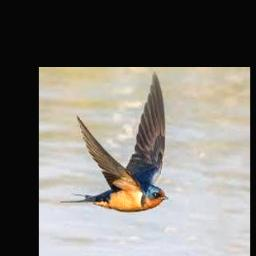Swallow: (60, 72, 169, 212)
